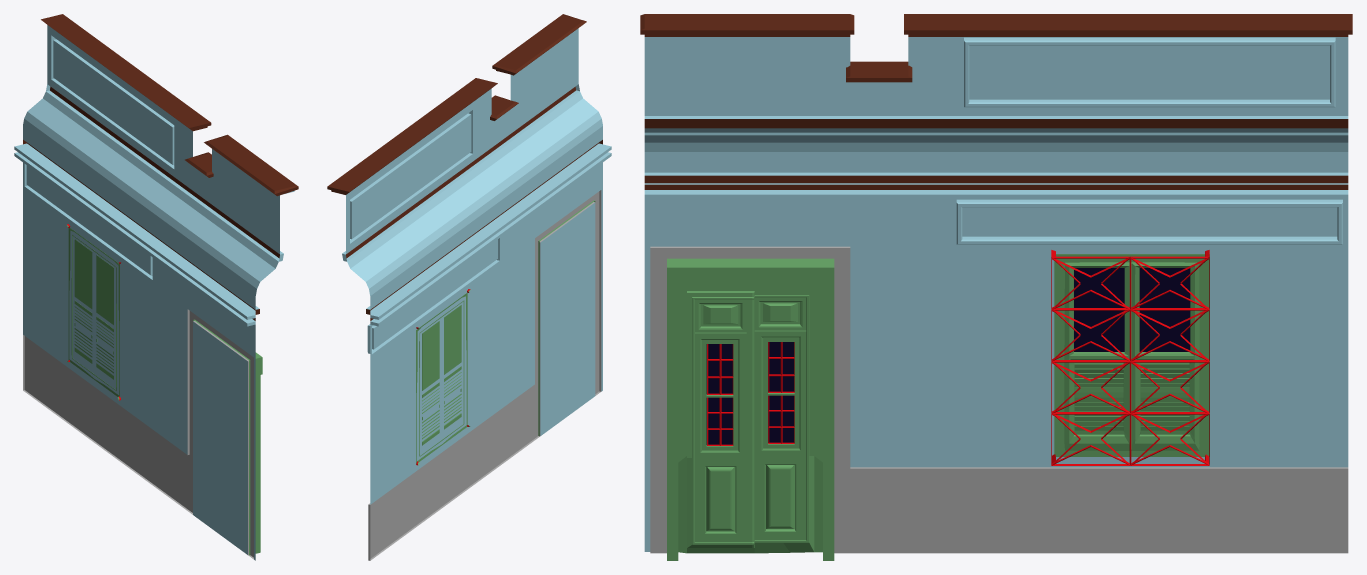
The model's file is Casa4.fbx.
3 renders of one model, left to right at view 1: azimuth 30°, elevation 25°; view 2: azimuth 150°, elevation 25°; view 3: azimuth 270°, elevation 25°, orthographic. The views are drawn at different scales.
Parts seen in each view (by area): view 1: Casa3; view 2: Casa3; view 3: Casa3.
Part boxes in pixels (x1,y1,x2,y2): Casa3: (14,14,298,560); Casa3: (327,14,611,560); Casa3: (640,14,1352,560).
Size of the model in its own units: 40.53 by 284 by 332.
